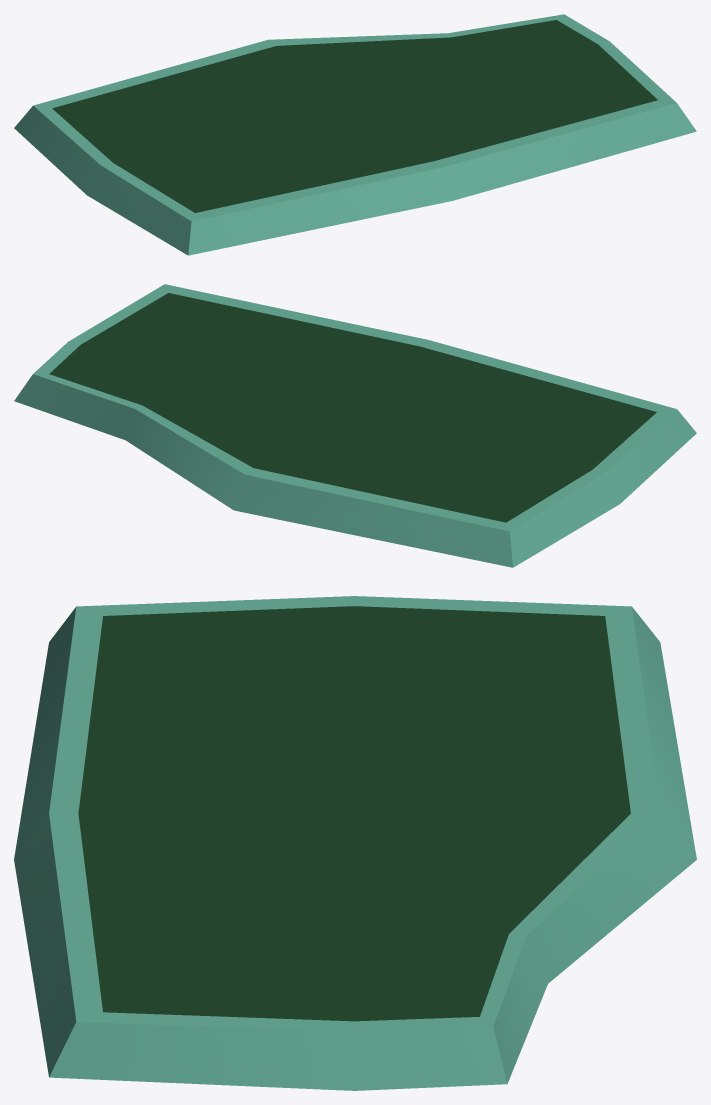
Rendered from Noticeboard 02.FBX.
3 renders of one model, top to bottom at view 1: azimuth 30°, elevation 25°; view 2: azimuth 150°, elevation 25°; view 3: azimuth 270°, elevation 25°, orthographic. The views are drawn at different scales.
Parts seen in each view (by area): view 1: Noticeboard 02; view 2: Noticeboard 02; view 3: Noticeboard 02.
Part boxes in pixels (box(x1,y1,x2,y2)): Noticeboard 02: box(14, 14, 696, 255); Noticeboard 02: box(14, 284, 696, 567); Noticeboard 02: box(14, 596, 696, 1090).
Size of the model in its own units: 285 by 13.3 by 178.
